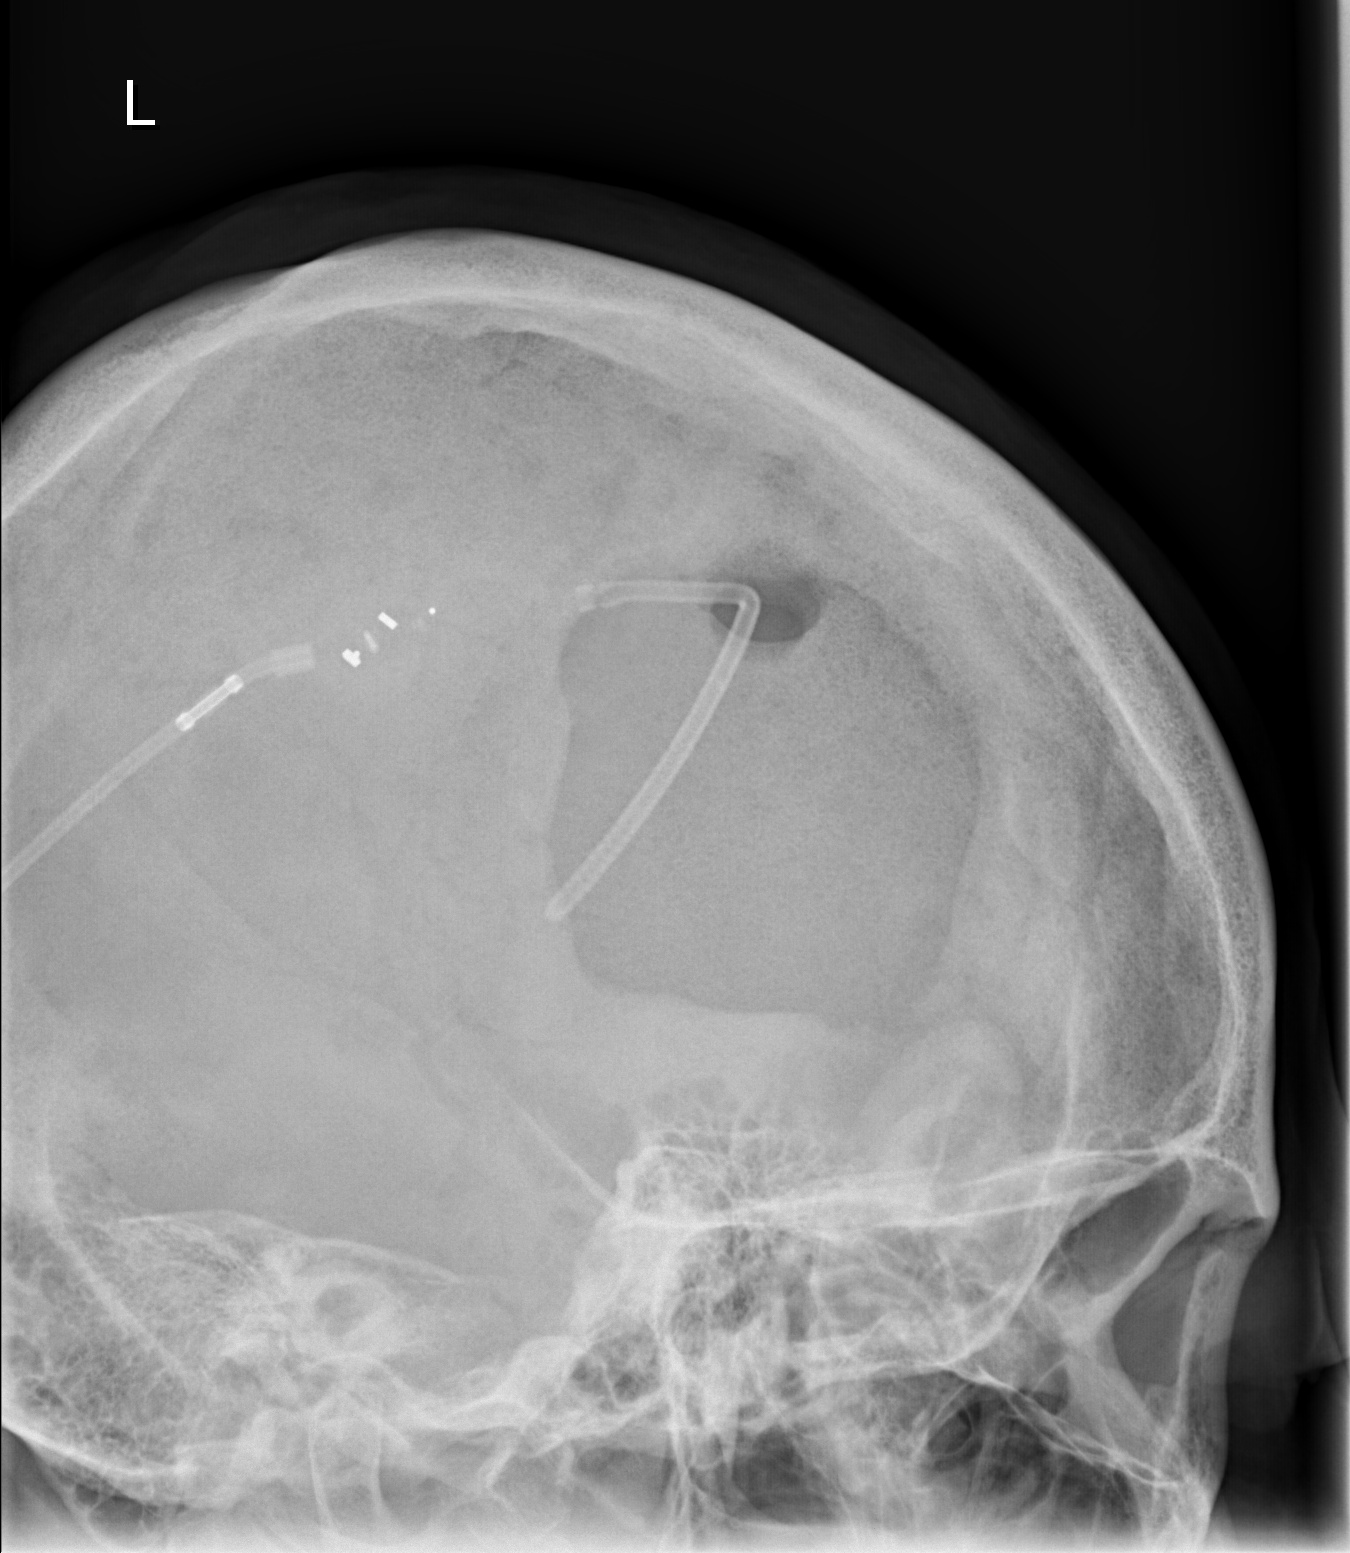Codman Certas: (320, 584, 446, 689)
